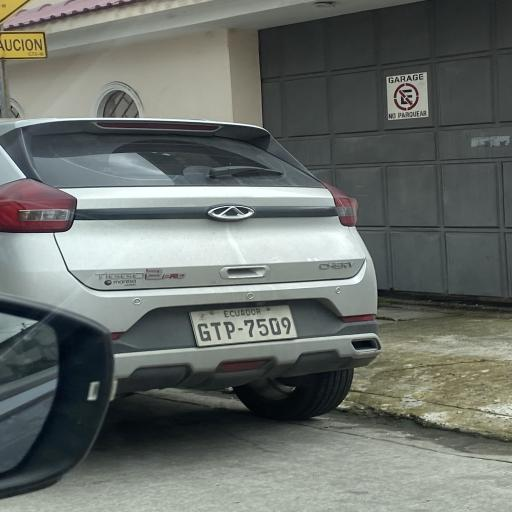license_plate: (190, 306, 296, 346)
